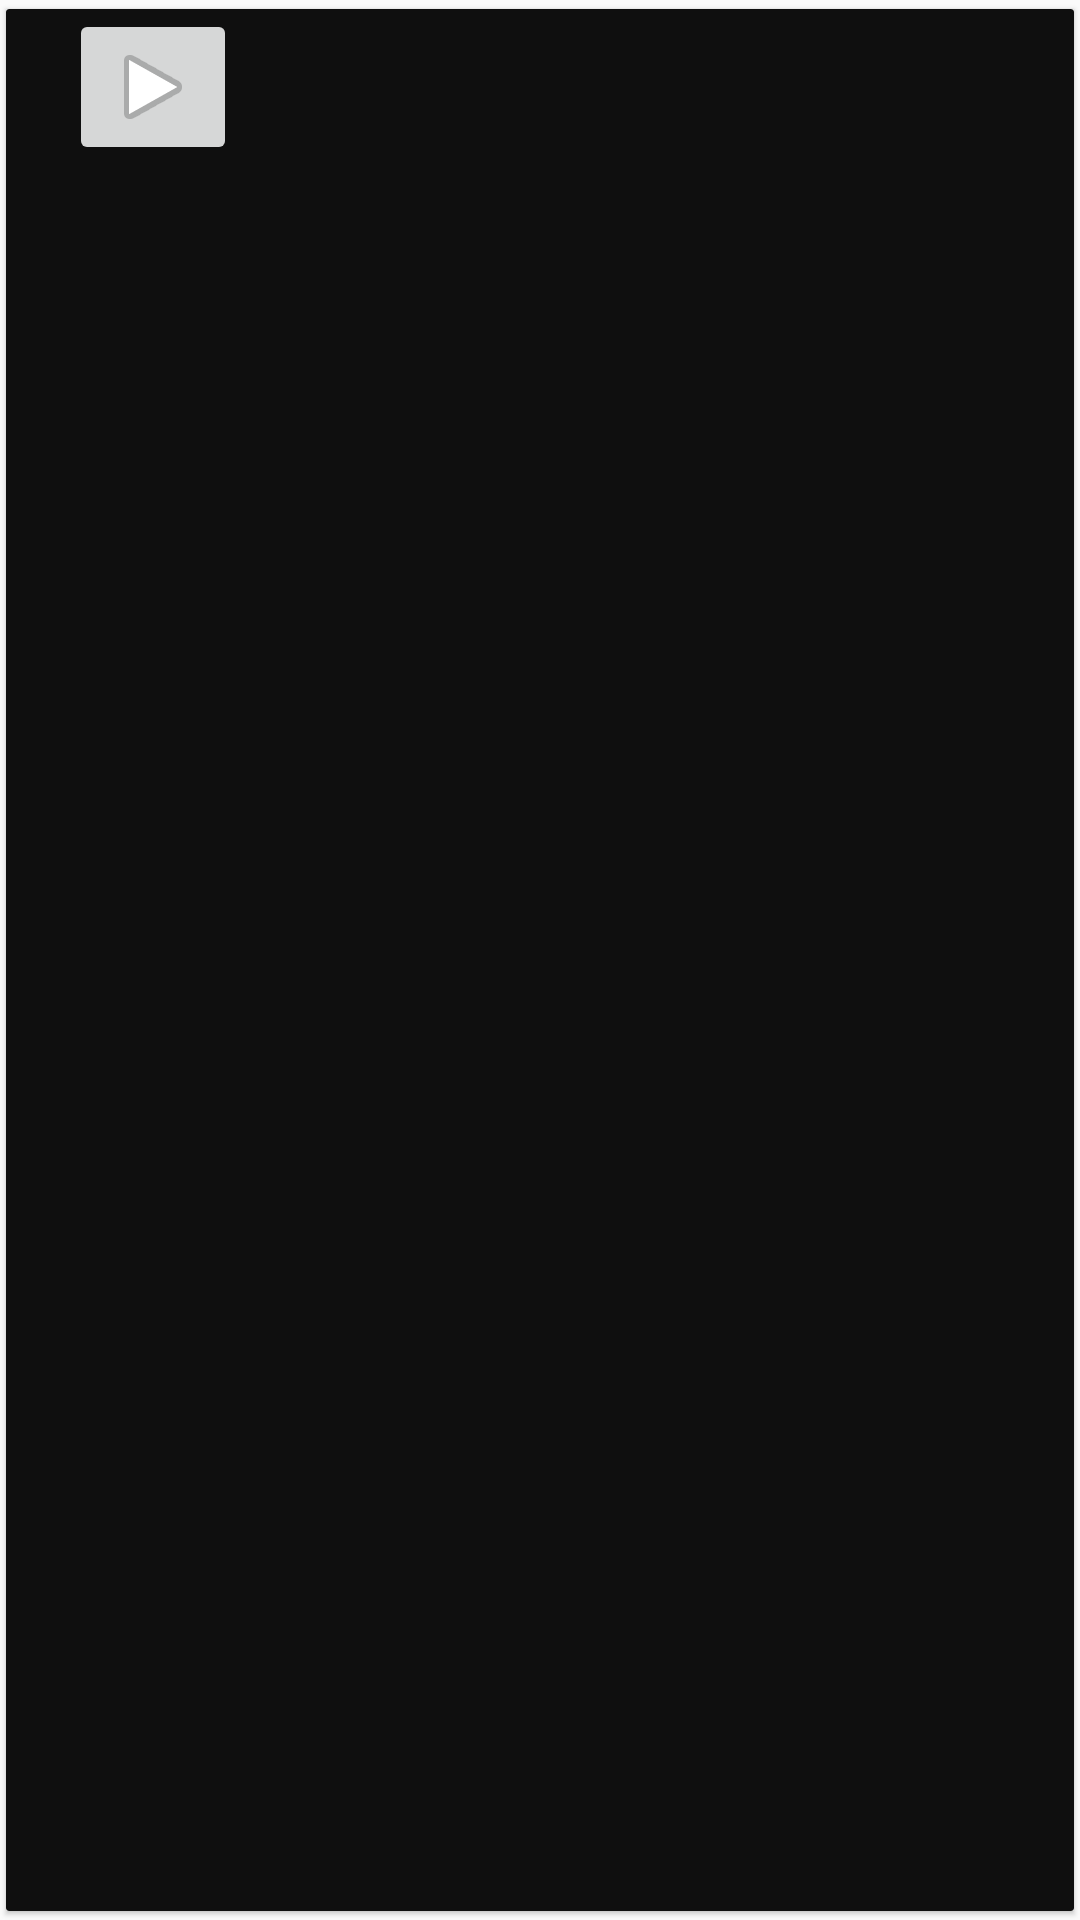

Screen size 1080px×1920px. Icon name, then its box in pixels as (x1, y1, x2, y2):
play: (81, 27, 225, 147)
